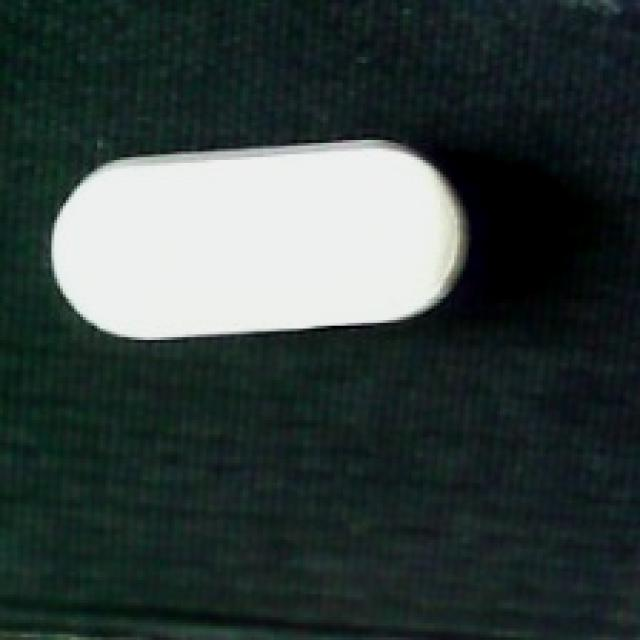no-defect: (46, 137, 468, 346)
